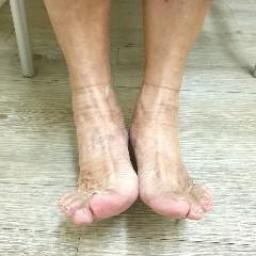Front View -Both Feet-: (40, 63, 230, 244)
